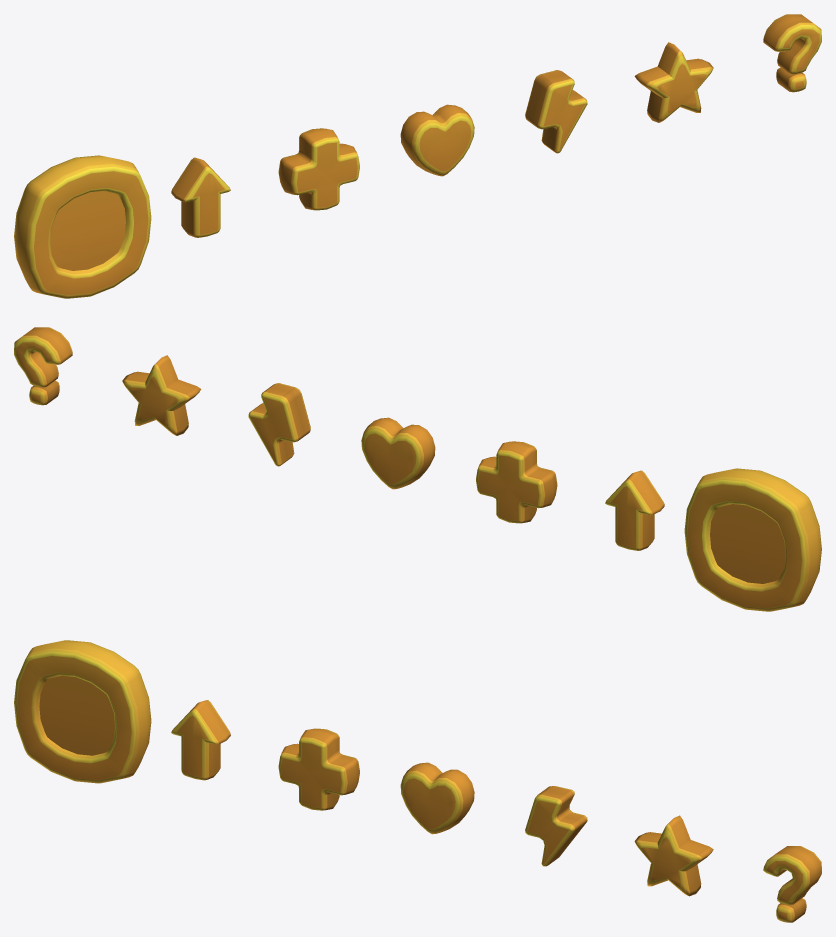
File: powerup_coin.fbx
3 views of the same model, one above another, from view 1: azimuth 30°, elevation 25°; view 2: azimuth 150°, elevation 25°; view 3: azimuth 330°, elevation 25° (orthographic).
Visible parts, largest first — view 1: powerup_coin_1_LOD0, powerup_health_1_LOD0, powerup_heart_1_LOD0, powerup_star_1_LOD0, powerup_lightning_1_LOD0, powerup_arrow_1_LOD0, powerup_random_1_LOD0; view 2: powerup_coin_1_LOD0, powerup_health_1_LOD0, powerup_heart_1_LOD0, powerup_star_1_LOD0, powerup_lightning_1_LOD0, powerup_arrow_1_LOD0, powerup_random_1_LOD0; view 3: powerup_coin_1_LOD0, powerup_health_1_LOD0, powerup_heart_1_LOD0, powerup_star_1_LOD0, powerup_arrow_1_LOD0, powerup_lightning_1_LOD0, powerup_random_1_LOD0.
Part boxes in pixels (box(x1,y1,x2,y2)): powerup_coin_1_LOD0: box(14, 155, 151, 298); powerup_health_1_LOD0: box(278, 128, 359, 210); powerup_heart_1_LOD0: box(400, 104, 474, 176); powerup_star_1_LOD0: box(634, 42, 713, 122); powerup_lightning_1_LOD0: box(525, 70, 587, 153); powerup_arrow_1_LOD0: box(171, 157, 230, 237); powerup_random_1_LOD0: box(763, 14, 821, 92); powerup_coin_1_LOD0: box(684, 468, 821, 611); powerup_health_1_LOD0: box(476, 441, 557, 523); powerup_heart_1_LOD0: box(361, 417, 435, 489); powerup_star_1_LOD0: box(122, 355, 201, 435); powerup_lightning_1_LOD0: box(248, 383, 310, 466); powerup_arrow_1_LOD0: box(605, 470, 664, 550); powerup_random_1_LOD0: box(14, 327, 72, 405); powerup_coin_1_LOD0: box(14, 640, 151, 783); powerup_health_1_LOD0: box(278, 728, 359, 810); powerup_heart_1_LOD0: box(400, 762, 474, 834); powerup_star_1_LOD0: box(634, 815, 713, 896); powerup_arrow_1_LOD0: box(171, 700, 230, 780); powerup_lightning_1_LOD0: box(525, 786, 587, 866); powerup_random_1_LOD0: box(763, 846, 821, 922).
Size of what is drawn, in the model's own units: 674 by 109 by 24.68.
